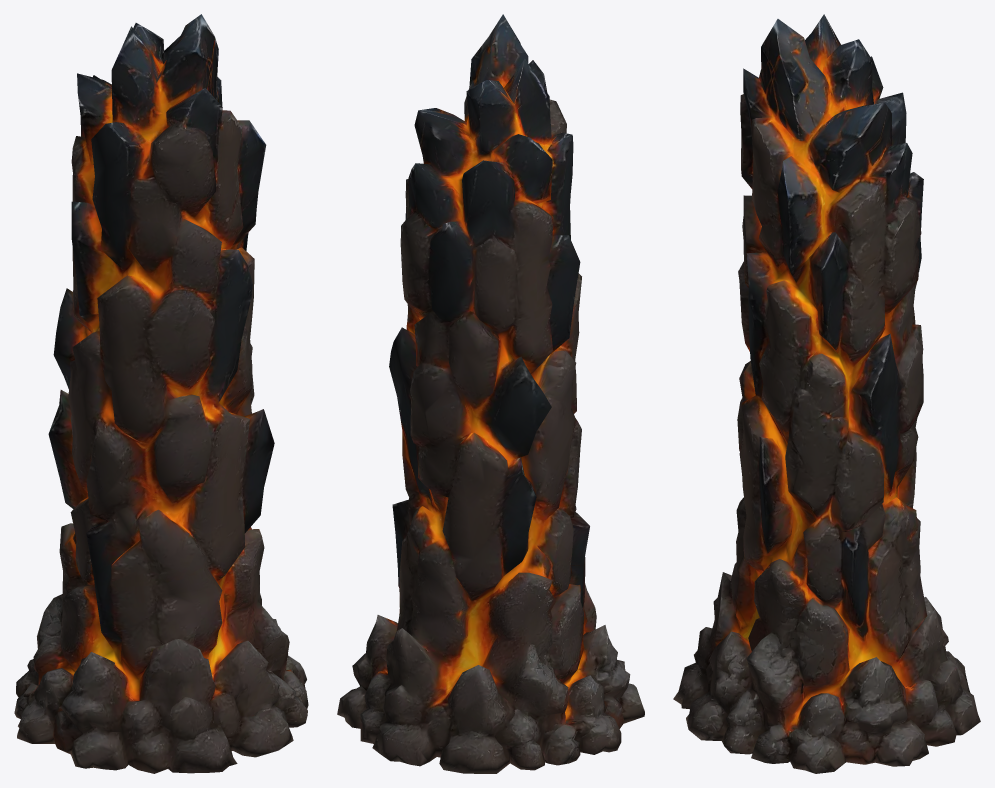
File: pillar.glb
3 renders of one model, left to right at view 1: azimuth 30°, elevation 25°; view 2: azimuth 150°, elevation 25°; view 3: azimuth 270°, elevation 25°, orthographic. The views are drawn at different scales.
Parts seen in each view (by area): view 1: tripo_node_ce34f864-107f-4ac8-a116-f082ca128677; view 2: tripo_node_ce34f864-107f-4ac8-a116-f082ca128677; view 3: tripo_node_ce34f864-107f-4ac8-a116-f082ca128677.
Boxes of the visible parts, x1,y1,x2,y2 form: tripo_node_ce34f864-107f-4ac8-a116-f082ca128677: (14,14,308,773); tripo_node_ce34f864-107f-4ac8-a116-f082ca128677: (337,14,644,773); tripo_node_ce34f864-107f-4ac8-a116-f082ca128677: (673,14,980,773).
Bounding box in the file's own units: 0.4081 × 1 × 0.4006.
Materials: 1 (1 with a texture image).
